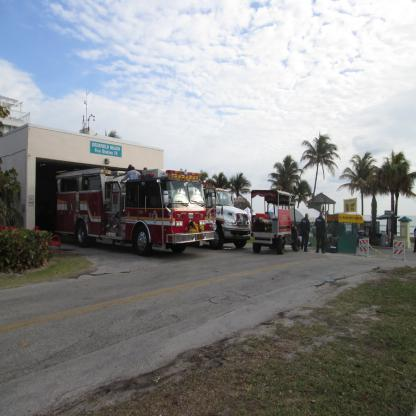Truck: (46, 167, 224, 258), (249, 185, 306, 258), (211, 185, 252, 252)
